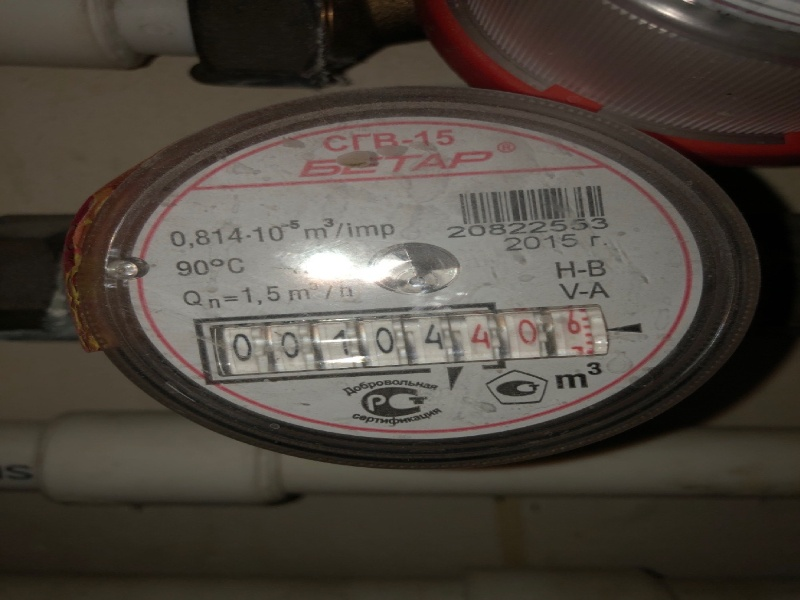meter: (191, 310, 609, 363)
